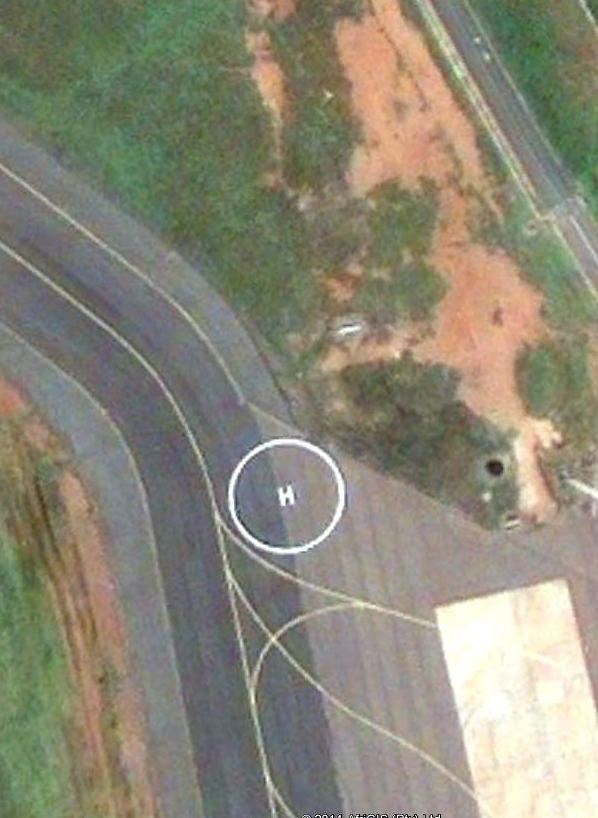heliport: (273, 479, 300, 512)
